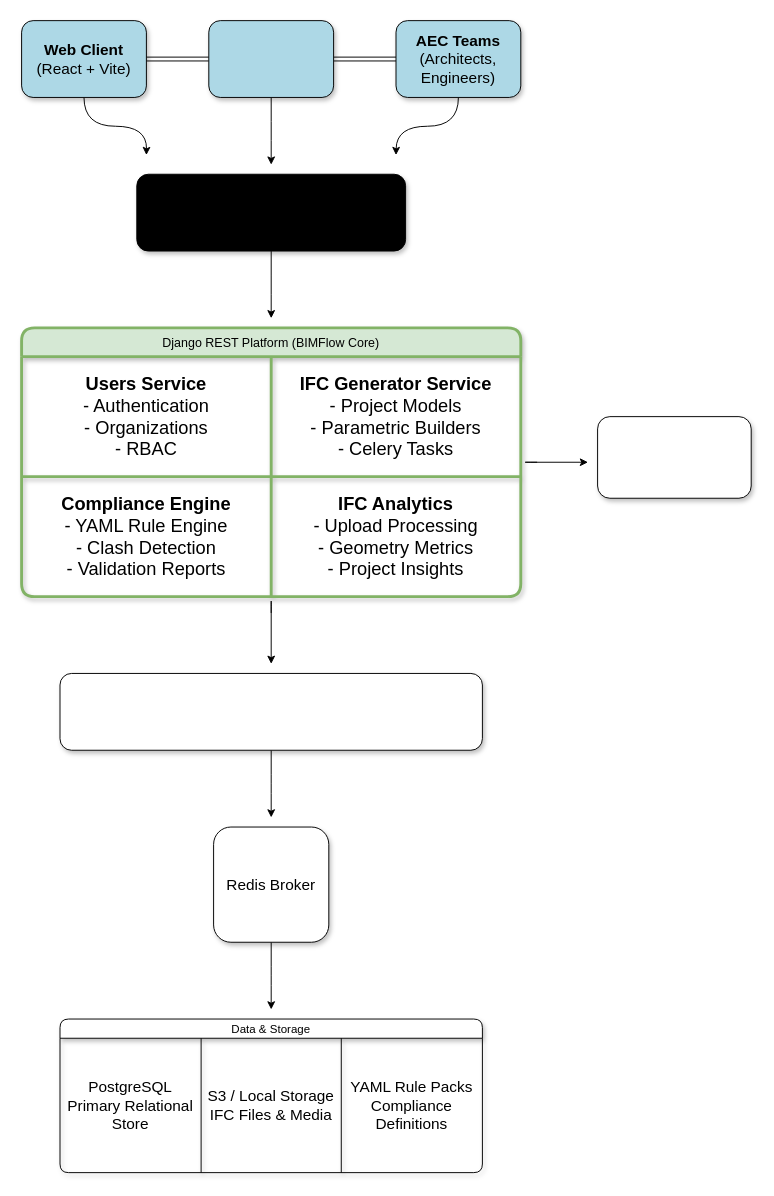
Image size: 774x1196. Some labels were removed from this diagram. Each missing label, with the centre of its shape:
API Consumers (Third-party / CI): the point at 271,60
Celery Workers Background Processing Queue: the point at 271,713
WebSocket Layer (Django Channels) Real-time Status Updates: the point at 675,458
